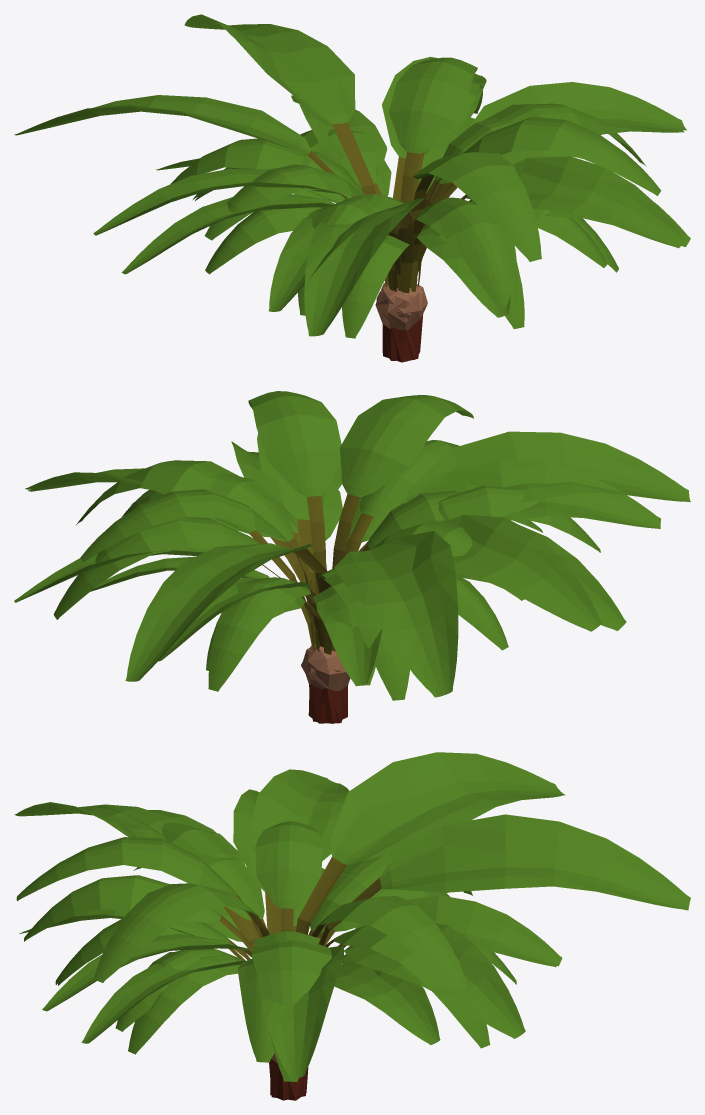
Rendered from LPFerns.fbx.
3 renders of one model, top to bottom at view 1: azimuth 30°, elevation 25°; view 2: azimuth 150°, elevation 25°; view 3: azimuth 270°, elevation 25°, orthographic. The views are drawn at different scales.
Visible parts, largest first — view 1: FernBase.003, FernBase.008, FernBase.005, FernBase.011, FernBase.009, FernBase.006, FernBase.004, FernBase.010; view 2: FernBase.005, FernBase.008, FernBase.003, FernBase.009, FernBase.006, FernBase.011, FernBase.004, FernBase.010; view 3: FernBase.008, FernBase.005, FernBase.011, FernBase.003, FernBase.006, FernBase.004, FernBase.009.
Part boxes in pixels (x1,y1,x2,y2): FernBase.003: (170, 57, 685, 359); FernBase.008: (93, 14, 646, 362); FernBase.005: (14, 81, 660, 360); FernBase.011: (193, 82, 686, 328); FernBase.009: (121, 117, 607, 317); FernBase.006: (156, 56, 618, 292); FernBase.004: (231, 117, 690, 338); FernBase.010: (195, 97, 684, 328); FernBase.005: (53, 391, 660, 723); FernBase.008: (76, 395, 601, 723); FernBase.003: (80, 431, 690, 708); FernBase.009: (131, 474, 626, 691); FernBase.006: (14, 490, 542, 686); FernBase.011: (25, 468, 524, 685); FernBase.004: (90, 441, 337, 670); FernBase.010: (28, 474, 522, 685); FernBase.008: (16, 769, 690, 1100); FernBase.005: (24, 752, 565, 1100); FernBase.011: (55, 821, 562, 1079); FernBase.003: (14, 802, 472, 1081); FernBase.006: (128, 852, 525, 1054); FernBase.004: (81, 872, 440, 1044); FernBase.009: (19, 789, 516, 1031).
Size of the model in its own units: 853 by 355 by 868.
